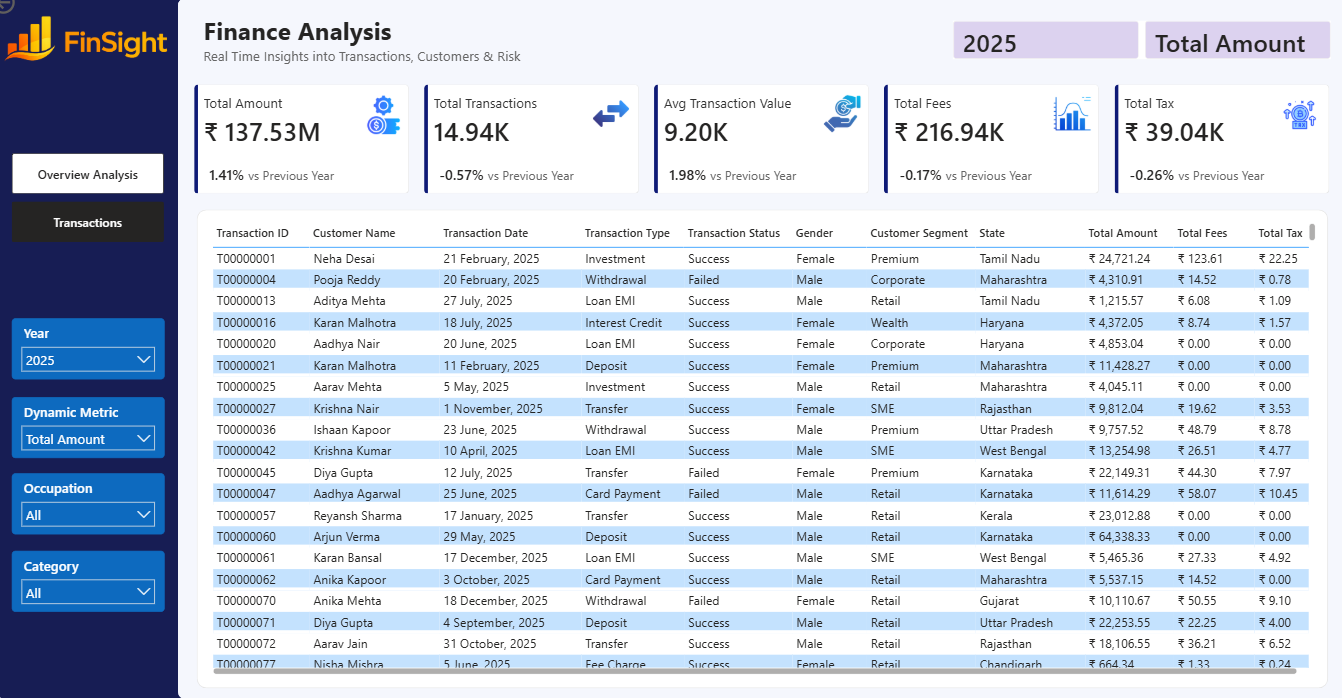

The page's visual inventory and layout, read from the dashboard file:
{"tool":"powerbi","page":{"name":"Transactions","canvas":[1800,950],"ordinal":1},"visuals":[{"type":"shape","box":[13.5,15.4,250.9,916.6],"z":0},{"type":"shape","box":[248.9,15.4,1530,916.6],"z":1000},{"type":"image","box":[13.5,15.4,235.4,106.1],"z":2000},{"type":"cardVisual","fields":{"Data":["Calendar.Dashboard Title"]},"box":[264.4,15.4,455.4,106.1],"z":3000},{"type":"cardVisual","fields":{"Data":["finance_transactions.Total Amount","finance_transactions.Total Transactions","finance_transactions.Avg Transaction Value","finance_transactions.Total Fees","finance_transactions.Total Tax"]},"box":[263.3,121,1499.5,155.3],"z":4000},{"type":"image","box":[492.2,136.2,50,63.3],"z":5000},{"type":"image","box":[790,134.1,50,63.3],"z":6000},{"type":"image","box":[1092.6,134.1,50,63.3],"z":7000},{"type":"image","box":[1393.7,134.1,50,63.3],"z":8000},{"type":"image","box":[1691.4,136.2,50,63.3],"z":9000},{"type":"shape","box":[273.1,291.1,1480,626.3],"z":10000},{"type":"cardVisual","fields":{"Data":["finance_transactions.Selected Year","finance_transactions.Selected Dynamic Measure"]},"box":[1257.5,39.2,505,60],"z":11000},{"type":"tableEx","fields":{"Values":["finance_transactions.transaction_id","customers csv.Merged","finance_transactions.transaction_date","finance_transactions.transaction_type","finance_transactions.transaction_status","customers csv.gender","customers csv.customer_segment","customers csv.state","finance_transactions.Total Amount","finance_transactions.Total Fees","finance_transactions.Total Tax"]},"box":[287.8,304.1,1453.7,600.1],"z":12000},{"type":"actionButton","box":[0,0,100,40],"z":13000},{"type":"slicer","fields":{"Values":["Calendar.Year"]},"box":[31.1,433.3,200,80],"z":14000},{"type":"slicer","fields":{"Values":["Dynamic Metric.Dynamic Metric"]},"box":[31.1,536.3,200,80],"z":15000},{"type":"slicer","fields":{"Values":["customers csv.occupation"]},"box":[31.1,636.1,200,80],"z":16000},{"type":"slicer","fields":{"Values":["finance_transactions.merchant_category"]},"box":[31.1,737.5,200,80],"z":17000},{"type":"pageNavigator","box":[31.1,217.5,199.5,117.7],"z":18000}]}

Visuals, with their boxes on the page's 1800x950 design canvas (x1, y1, x2, y2). These are canvas units, not pixel positions in the 1342x698 screenshot, which may show the page scaled, cropped or inside an application window:
shape: BBox(14, 15, 264, 932)
shape: BBox(249, 15, 1779, 932)
image: BBox(14, 15, 249, 122)
cardVisual - Calendar.Dashboard Title: BBox(264, 15, 720, 122)
cardVisual - finance_transactions.Total Amount x finance_transactions.Total Transactions: BBox(263, 121, 1763, 276)
image: BBox(492, 136, 542, 200)
image: BBox(790, 134, 840, 197)
image: BBox(1093, 134, 1143, 197)
image: BBox(1394, 134, 1444, 197)
image: BBox(1691, 136, 1741, 200)
shape: BBox(273, 291, 1753, 917)
cardVisual - finance_transactions.Selected Year x finance_transactions.Selected Dynamic Measure: BBox(1258, 39, 1762, 99)
tableEx - finance_transactions.transaction_id x customers csv.Merged: BBox(288, 304, 1742, 904)
actionButton: BBox(0, 0, 100, 40)
slicer - Calendar.Year: BBox(31, 433, 231, 513)
slicer - Dynamic Metric.Dynamic Metric: BBox(31, 536, 231, 616)
slicer - customers csv.occupation: BBox(31, 636, 231, 716)
slicer - finance_transactions.merchant_category: BBox(31, 738, 231, 818)
pageNavigator: BBox(31, 218, 231, 335)
